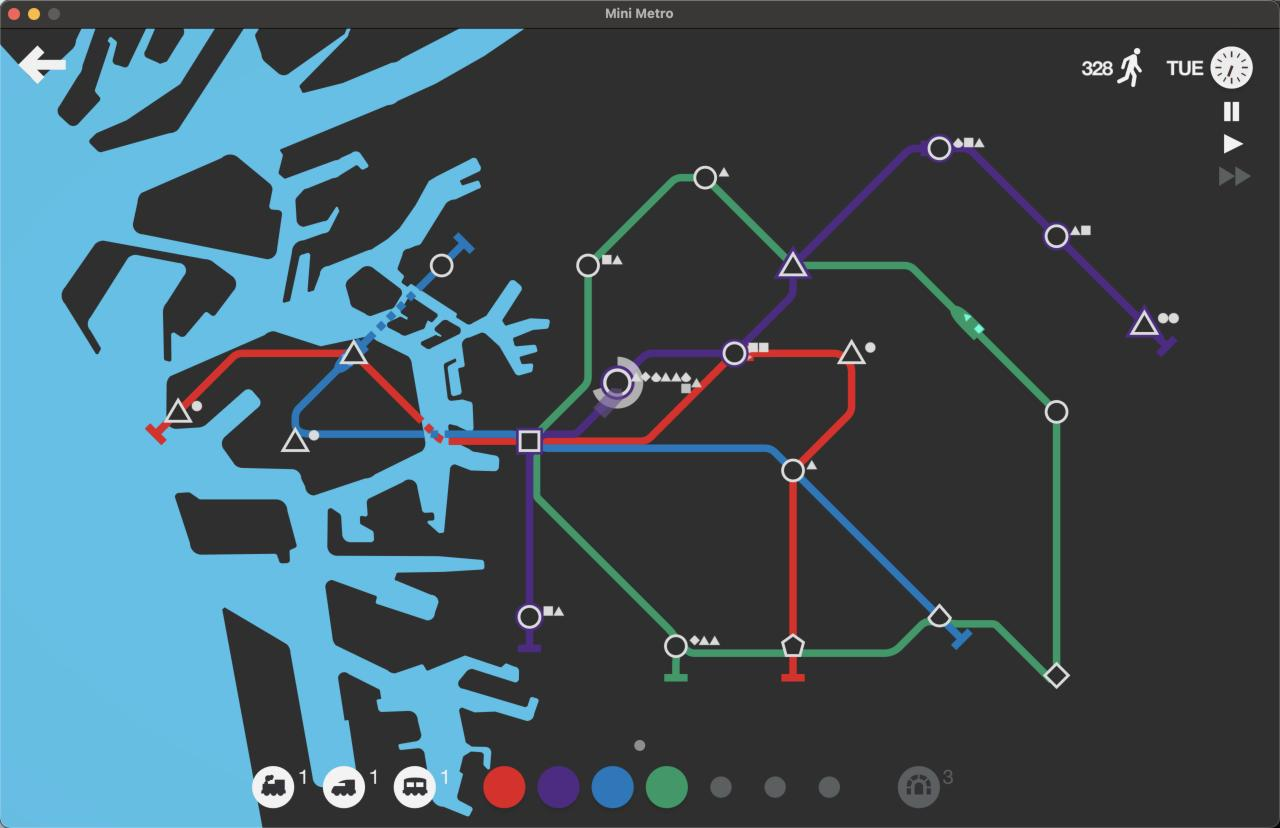CIRCLE: (601, 366, 634, 398), (516, 603, 543, 630), (721, 340, 748, 367), (926, 135, 953, 162), (1044, 223, 1070, 250), (693, 165, 719, 191), (575, 253, 601, 278), (780, 459, 806, 484), (429, 253, 454, 278), (663, 634, 688, 659), (1044, 400, 1069, 425)
GEM: (1044, 662, 1070, 688)
PENTAGON: (781, 633, 806, 658)
SQUARE: (518, 430, 542, 453)
TRIANGLE: (776, 248, 812, 280), (1127, 307, 1161, 338), (164, 397, 194, 427), (837, 337, 868, 366), (339, 339, 368, 365), (280, 428, 310, 453)
WEDGE: (927, 603, 952, 627)
